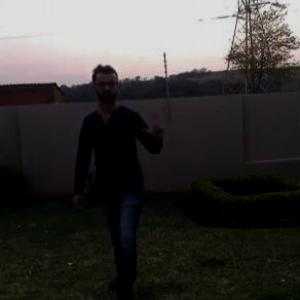land_hand: (140, 107, 167, 143)
